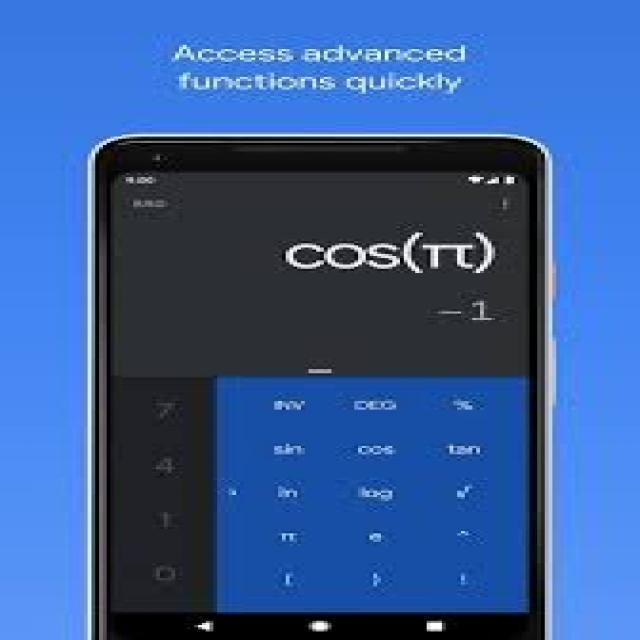Calculator: (77, 127, 558, 640)
